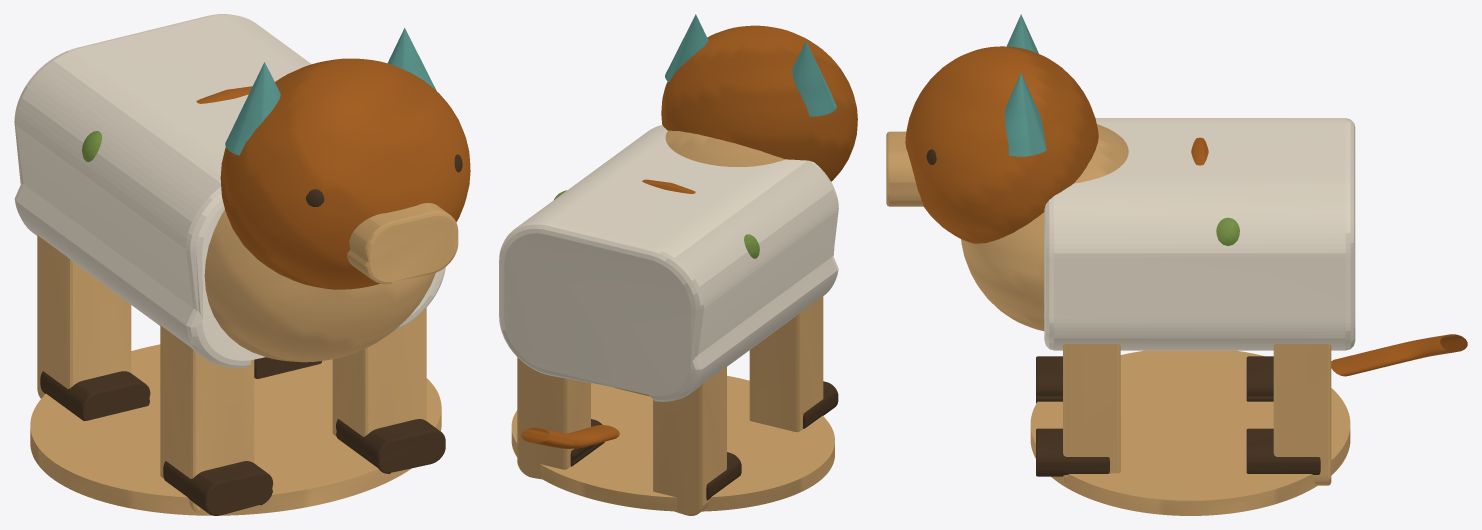
File: 1303_爬行动物图鉴_青海沙蜥.glb
The picture shows the model from 3 angles, left to right: view 1: azimuth 30°, elevation 25°; view 2: azimuth 150°, elevation 25°; view 3: azimuth 270°, elevation 25°; orthographic projection. The views are drawn at different scales.
Visible parts, largest first — view 1: card_1303; view 2: card_1303; view 3: card_1303.
Boxes of the visible parts, x1=… form: card_1303: x1=14, y1=14, x2=470, y2=515; card_1303: x1=499, y1=14, x2=857, y2=515; card_1303: x1=886, y1=14, x2=1467, y2=515.
Size of the model in its own units: 0.824 by 1 by 1.32.
